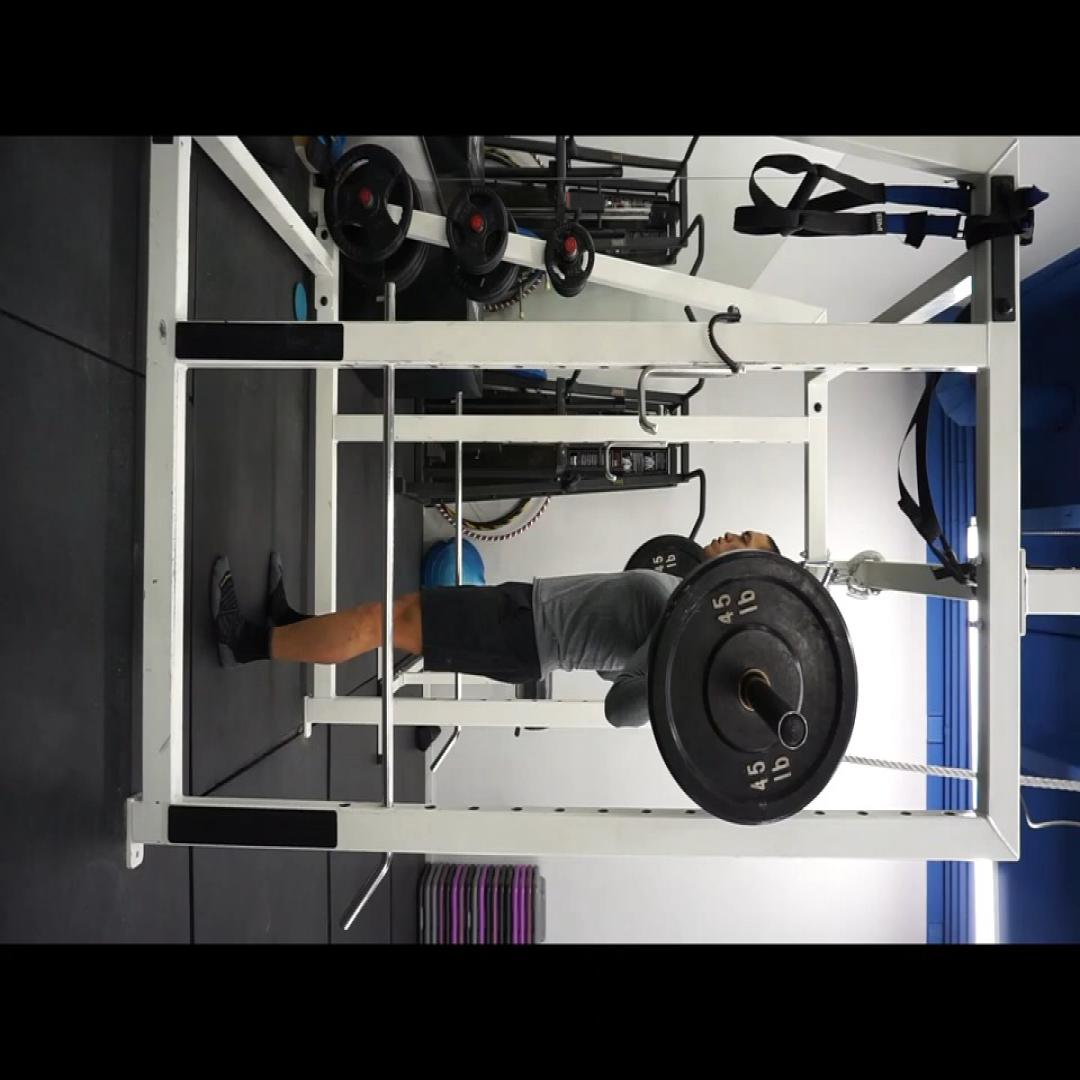Bar: (777, 710, 809, 750)
Barbell: (650, 549, 858, 827)
